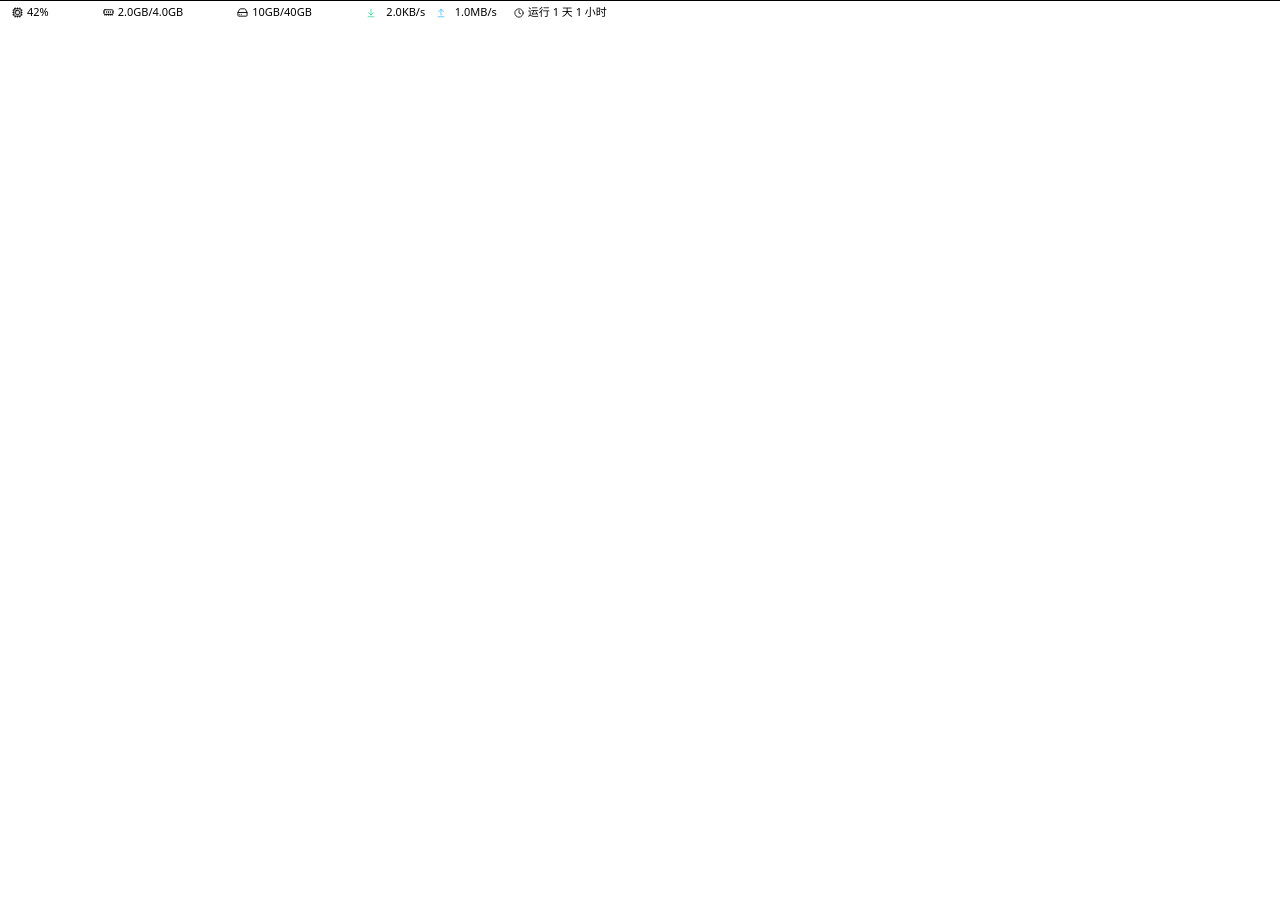
Test: ServerStatsBar 数据接线（固定数据） › 内存详情：已用 / 可用 / buffers / cached / 交换分区 / 总量
The width and height of the screenshot is (1280, 900).
Step 1. Hover over the button titled "内存（悬停看明细和占用最多的进程）" → coordinates (164, 13), box [103, 4, 225, 21]
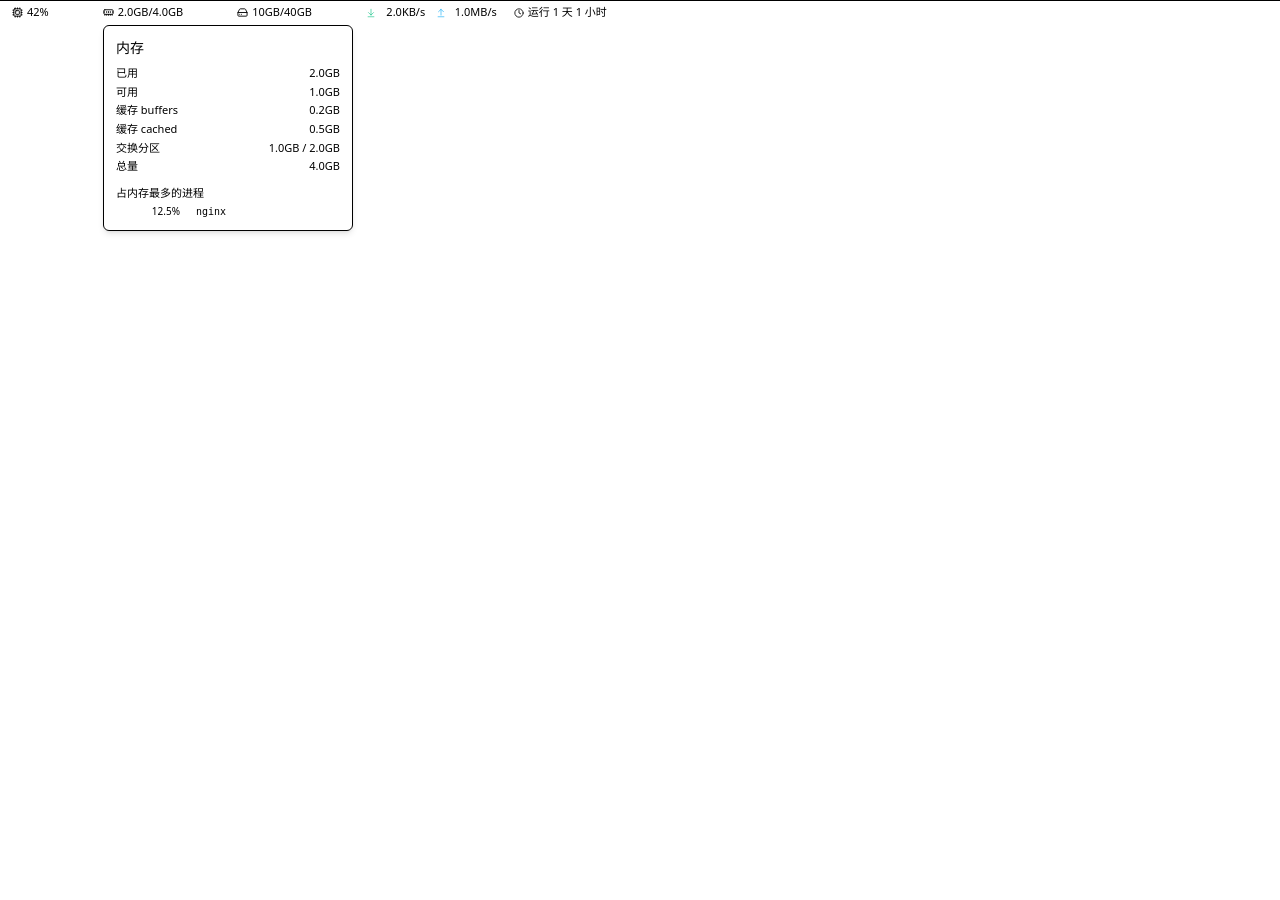
Check: the text "内存" is shown, box [116, 38, 144, 57]
Check: the text "2.0GB" is shown, box [309, 66, 340, 81]
Check: the text "1.0GB" is shown, box [309, 85, 340, 99]
